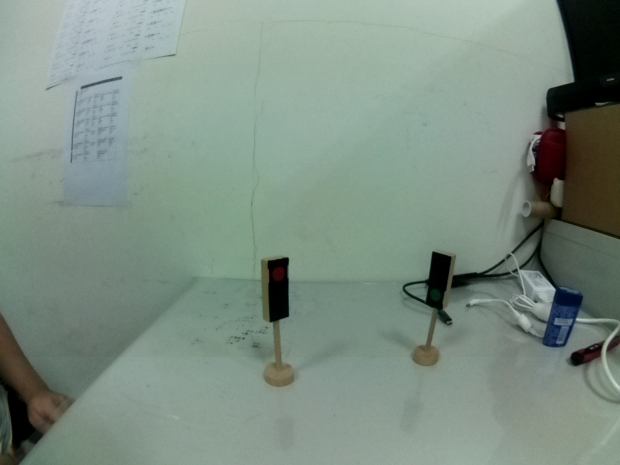Green: (422, 249, 453, 310)
Red: (263, 255, 290, 321)
